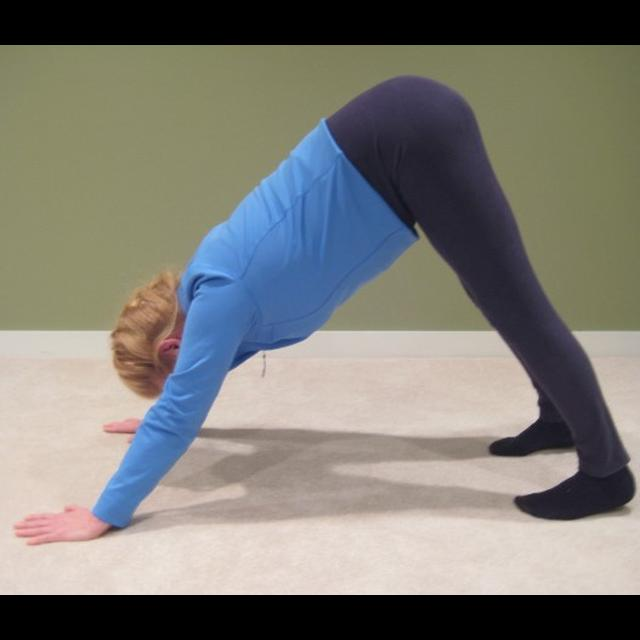Downward-Facing_Dog: (7, 71, 637, 563)
